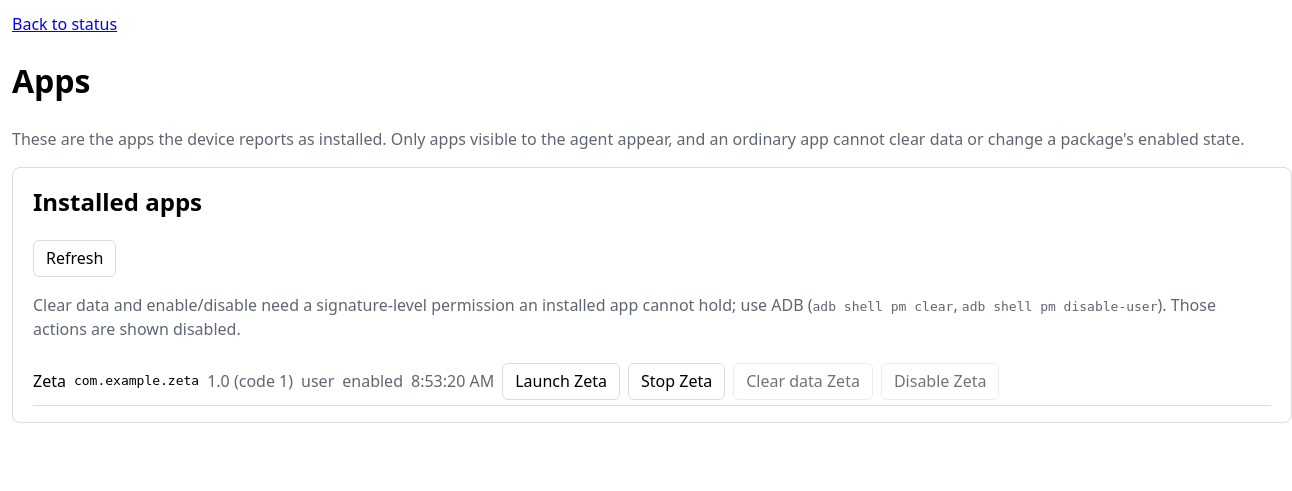
Test: the apps screen › says what a stop requested, never that the app stopped
Click the button "Stop Zeta".
click(677, 381)  # box [628, 363, 725, 400]
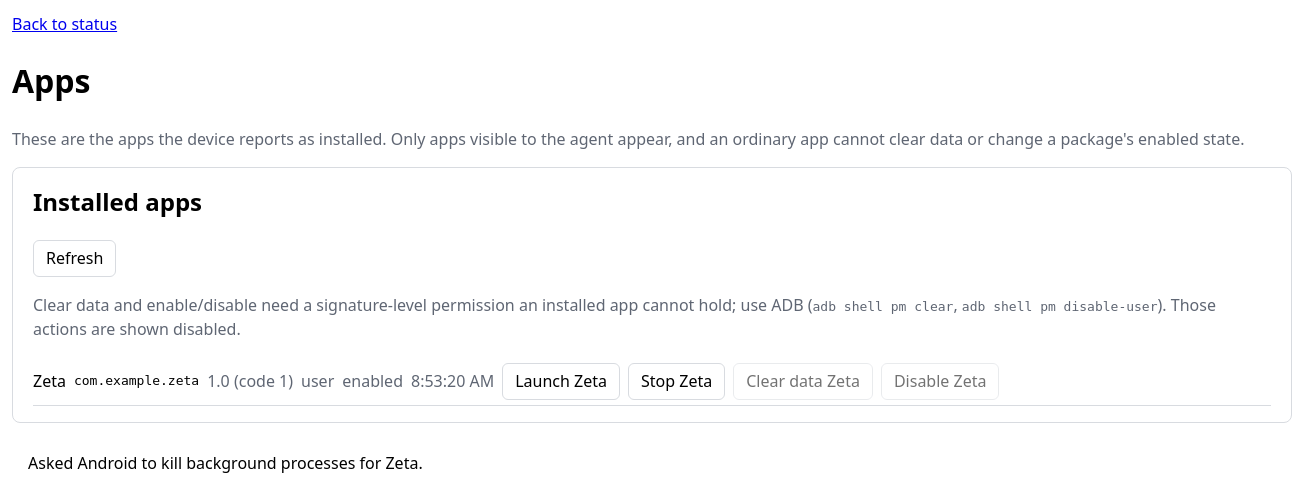
Now the text "Asked Android to kill background processes for Zeta." is shown, box [28, 452, 423, 474]
